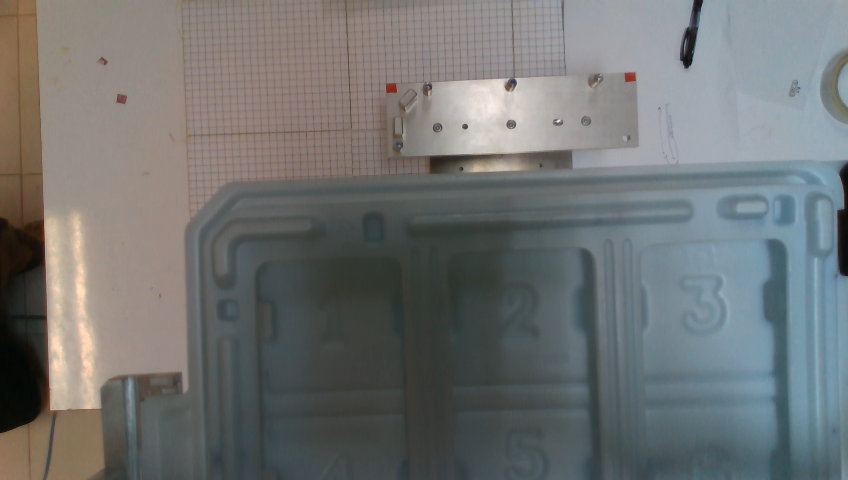red: (386, 83, 397, 93), (625, 72, 636, 82)
